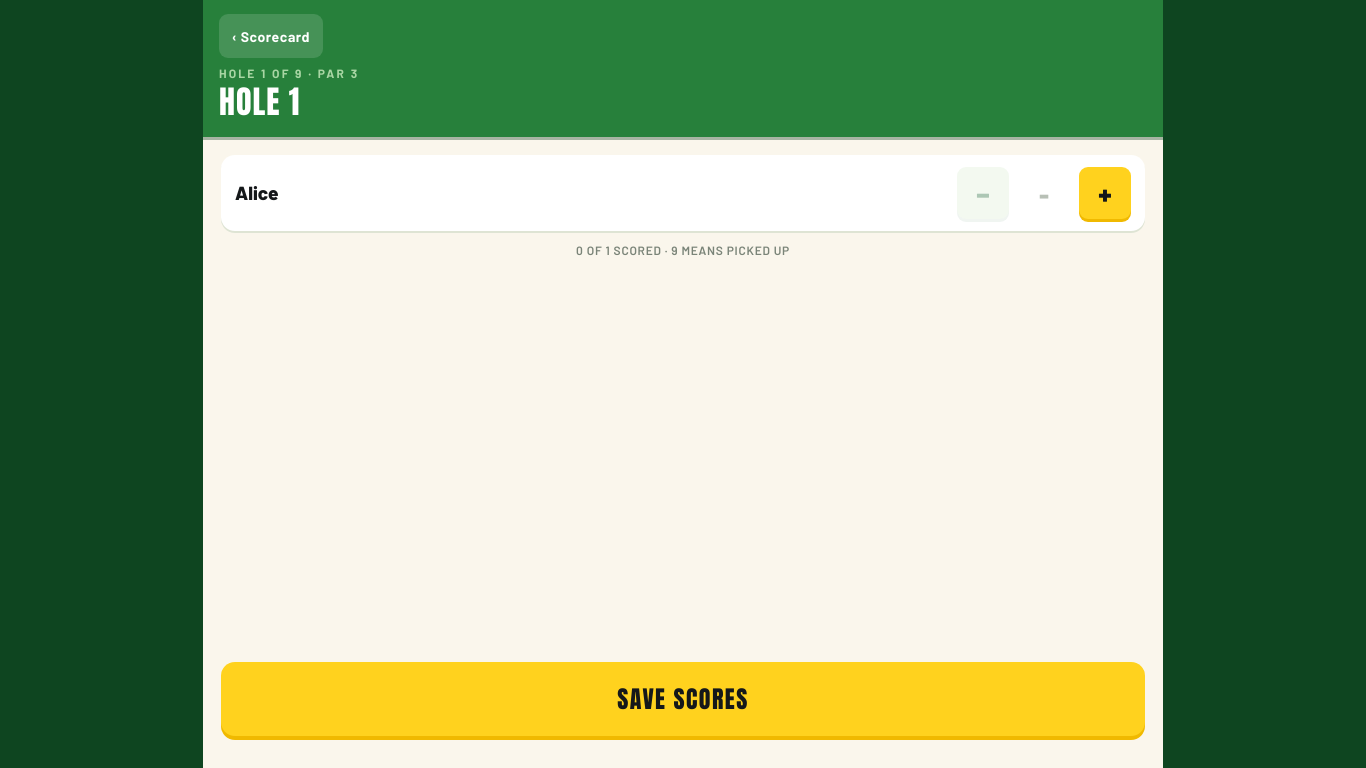
Scenario: HoleEntry › steps a blank Score up to 1 on the first increase
The image size is (1366, 768).
Click the button "+" at [1105, 193], box [1079,167,1131,219]
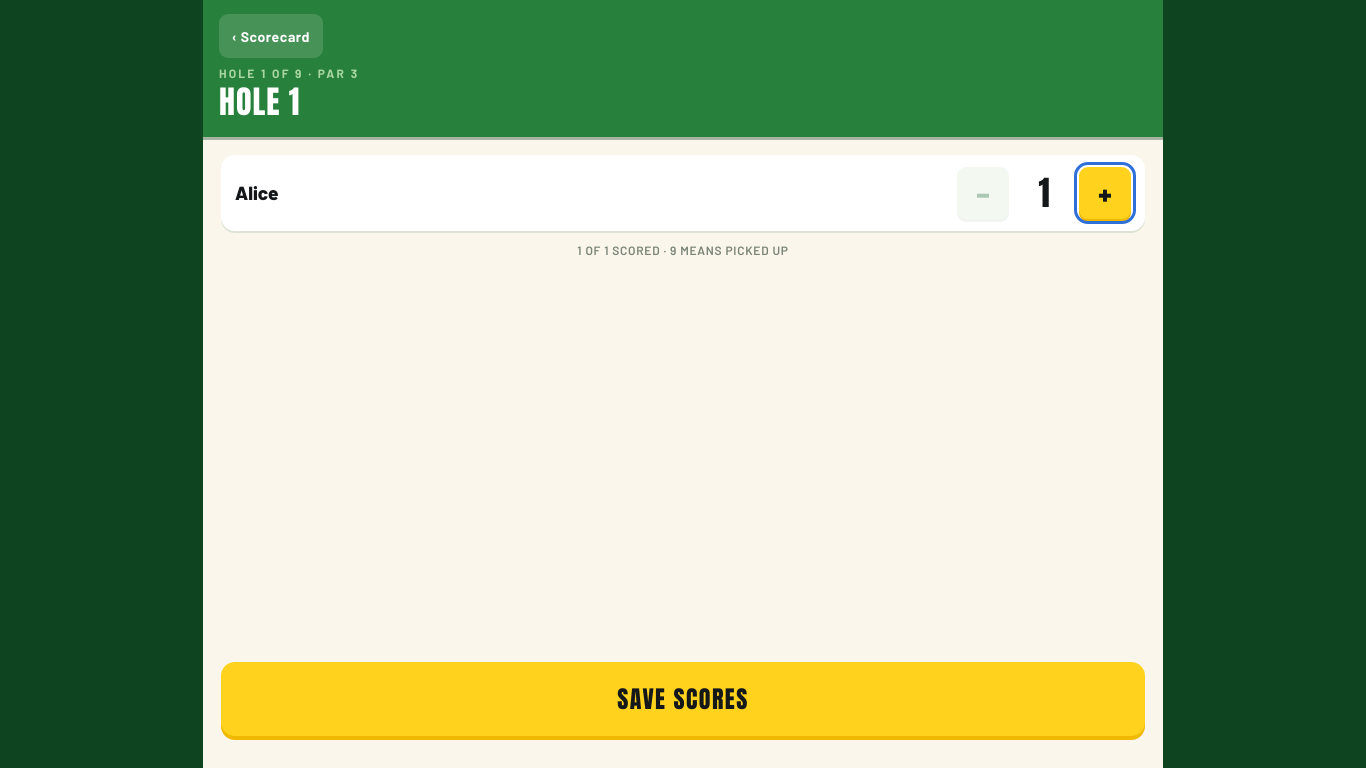
Expected: the text "1" is shown, [1038,167,1050,218]
